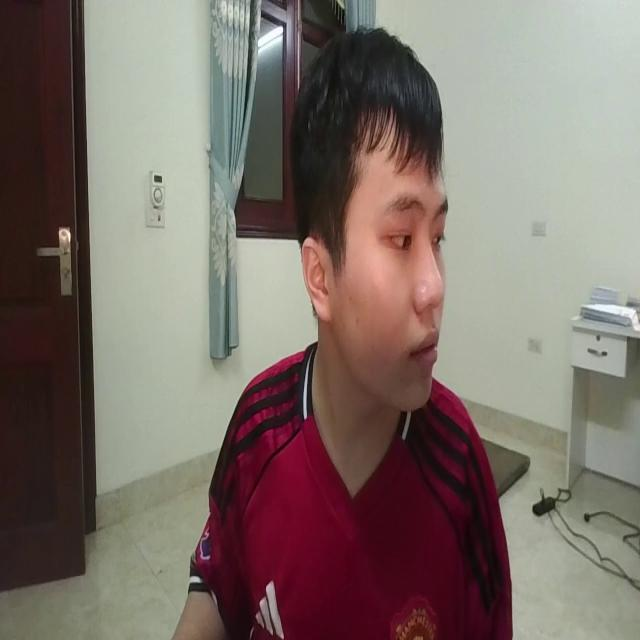student: (172, 22, 514, 640)
